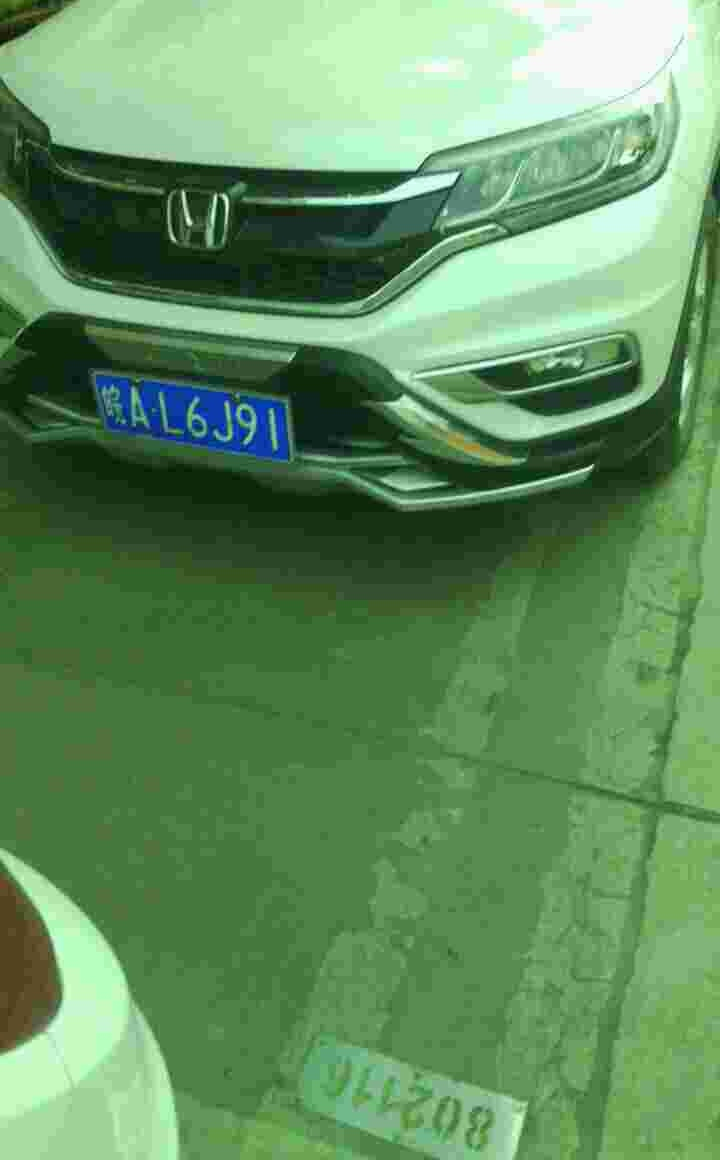license_plate: (79, 363, 300, 460)
